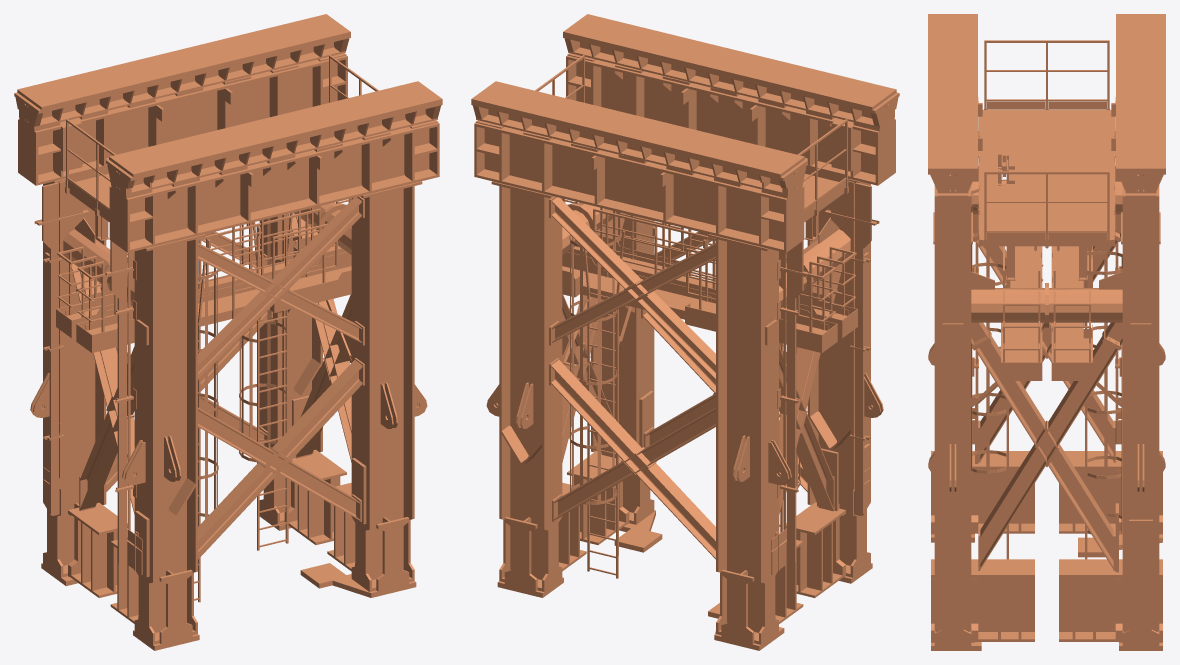
The model's file is HF-Truck-SideC-cut1.glb.
The picture shows the model from 3 angles, left to right: view 1: azimuth 30°, elevation 25°; view 2: azimuth 150°, elevation 25°; view 3: azimuth 270°, elevation 25°; orthographic projection. The views are drawn at different scales.
Visible parts, largest first — view 1: HF Truck Side C; view 2: HF Truck Side C; view 3: HF Truck Side C.
Boxes of the visible parts, <box> form: HF Truck Side C: <box>14,14,442,650</box>; HF Truck Side C: <box>471,14,899,650</box>; HF Truck Side C: <box>928,14,1165,650</box>.
Size of the model in its own units: 5.43 by 7.99 by 3.48.
